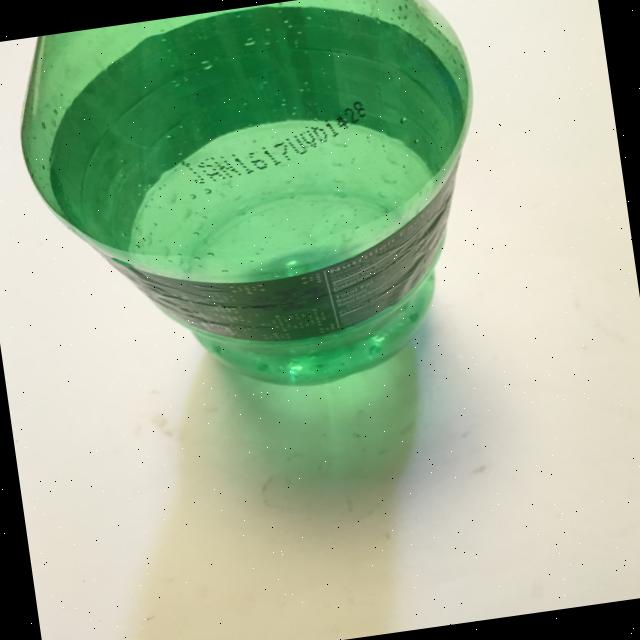plastic: (6, 0, 511, 421)
